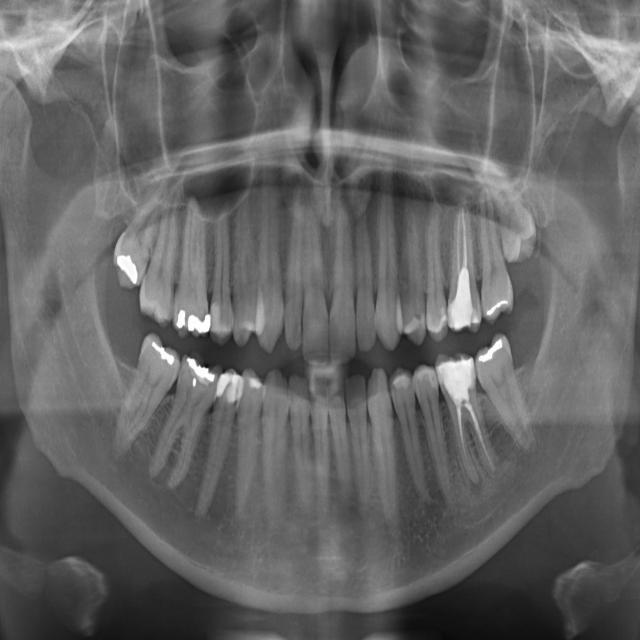3M ESPE Implant: (104, 170, 171, 291)
AGS Medikal Implant: (355, 206, 376, 354)
AMerOss Implant: (367, 185, 405, 354)
Amalgam filling: (394, 197, 427, 348)
Anthogyr Implant: (418, 205, 449, 343)
Bicon Implant: (434, 193, 484, 337)
BioHorizons Implant: (478, 180, 514, 326)
BioLife Implant: (488, 171, 544, 266)
Blue Sky Bio Implant: (468, 331, 541, 463)
Camlog Implant: (432, 345, 507, 487)
Caries: (138, 202, 177, 328)
Composite filling: (412, 364, 454, 511)
Cowellmedi Implant: (388, 366, 431, 508)
Crown: (363, 367, 408, 535)
DENTSPLY Implant: (345, 374, 373, 512)
Dentatus Implant: (326, 380, 355, 507)
Dentis Implant: (308, 384, 332, 516)
Dentium Implant: (288, 374, 316, 528)
Euroteknika Implant: (254, 368, 291, 533)
Filling: (226, 365, 266, 518)
Frontier Implant: (189, 366, 246, 525)
Hiossen Implant: (170, 197, 210, 340)
Implant: (121, 440, 121, 441)
Implant Direct: (143, 352, 226, 497)
MIS Implant: (210, 215, 231, 345)
Mandible: (230, 200, 260, 349)
Maxilla: (254, 185, 290, 352)
Megagen Implant: (284, 192, 305, 350)
Neodent Implant: (302, 207, 329, 366)
Neoss Implant: (329, 197, 358, 365)
